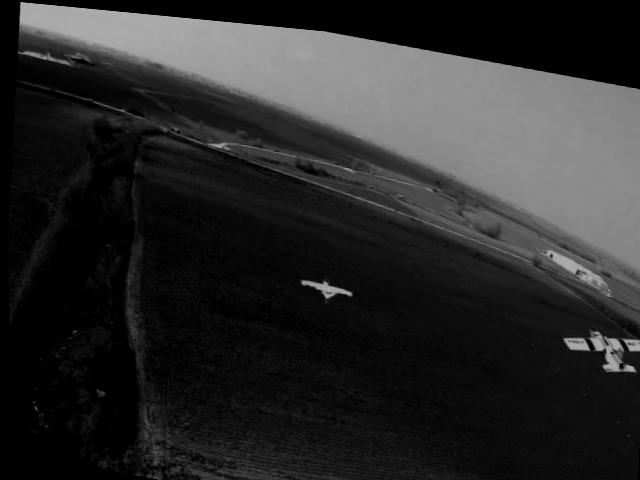hedef: (556, 291, 640, 374), (291, 255, 360, 308)
